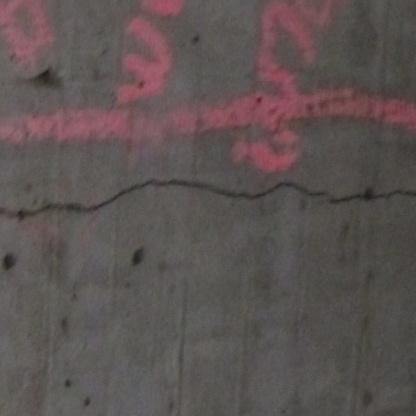Cracks: (13, 178, 416, 225)
